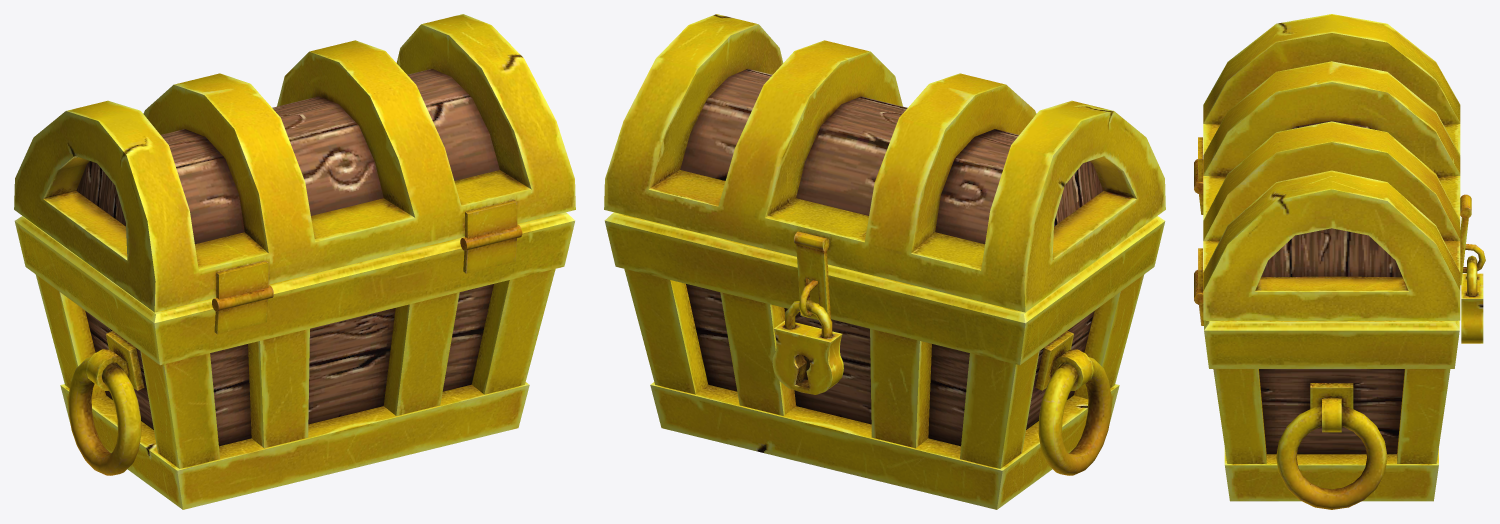
Rendered from Treasure #58328.fbx.
3 views of the same model, side by side, from view 1: azimuth 30°, elevation 25°; view 2: azimuth 150°, elevation 25°; view 3: azimuth 270°, elevation 25° (orthographic). The views are drawn at different scales.
Visible parts, largest first — view 1: Chest, Lid; view 2: Lid, Chest, Lock; view 3: Lid, Chest, Lock.
Boxes of the visible parts, <box> form: Chest: <box>14,200,575,509</box>; Lid: <box>14,14,575,312</box>; Lid: <box>604,14,1165,319</box>; Chest: <box>604,212,1165,509</box>; Lock: <box>772,300,843,394</box>; Lid: <box>1203,14,1471,321</box>; Chest: <box>1194,137,1485,509</box>; Lock: <box>1461,255,1483,343</box>.
Size of the model in its own units: 2.71 by 2.18 by 1.78.
